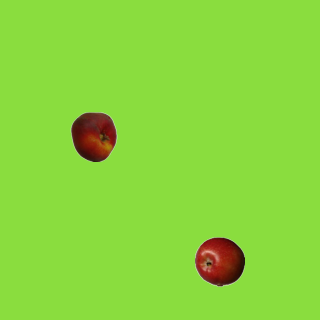Apple Braeburn: (194, 236, 244, 286)
Nectarine Flat: (68, 111, 118, 161)
